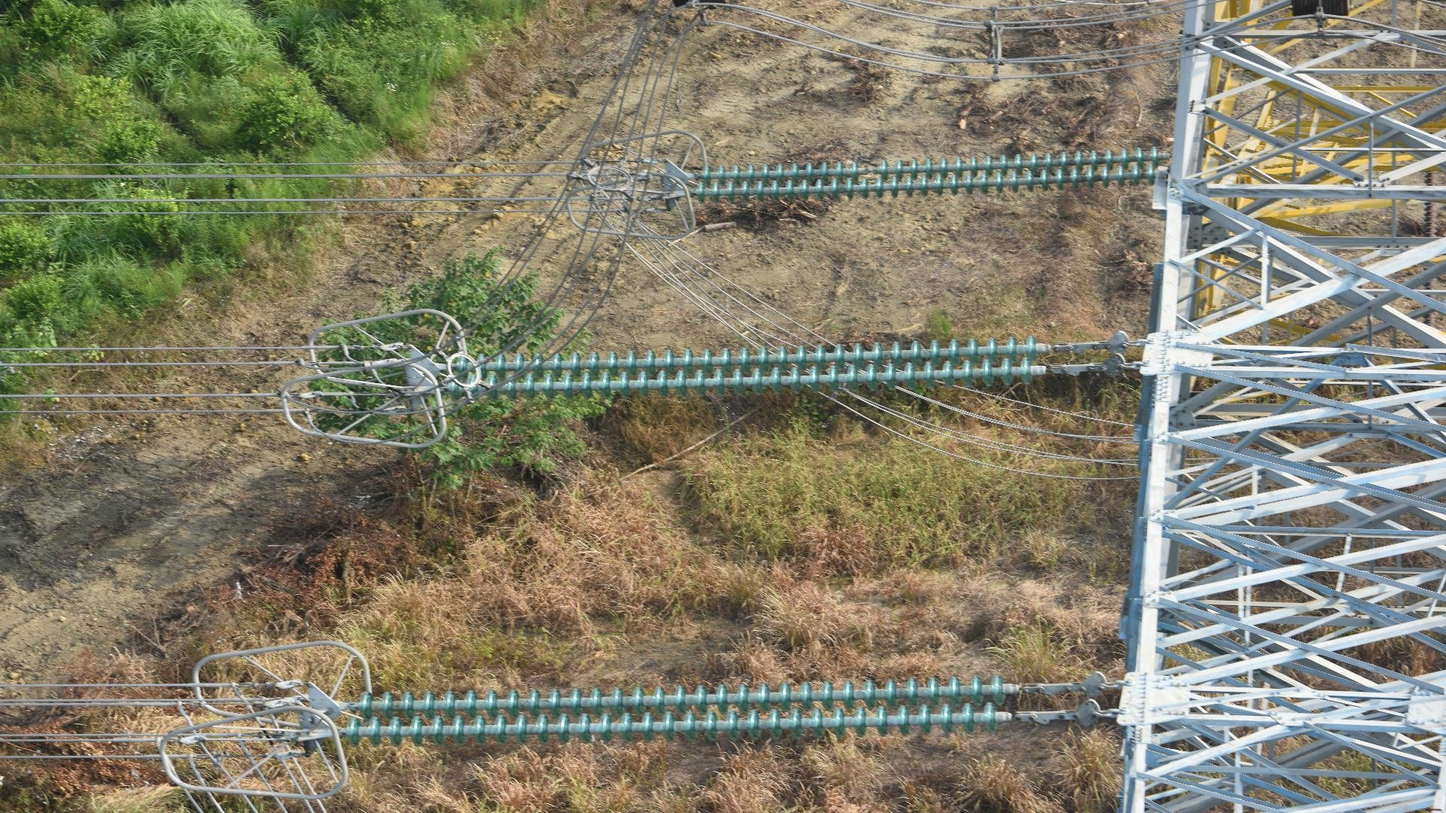insulator: (344, 670, 1008, 749), (441, 330, 1041, 405), (691, 141, 1164, 212), (1419, 166, 1441, 328)
